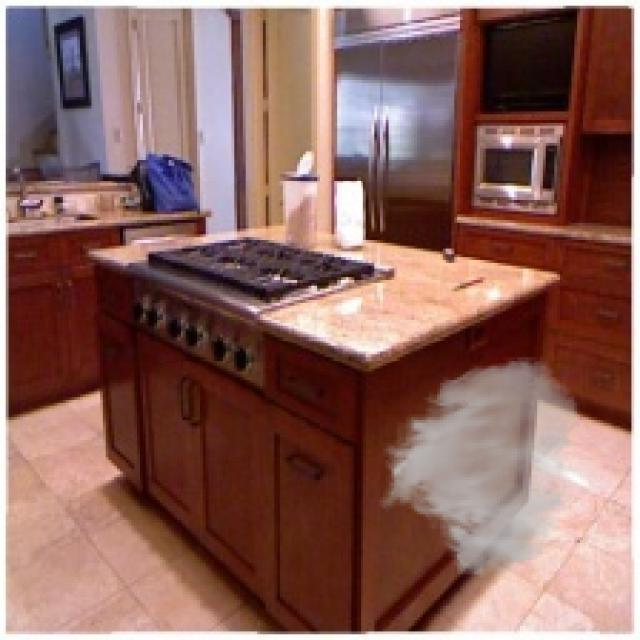Smoke: (377, 354, 583, 580)
